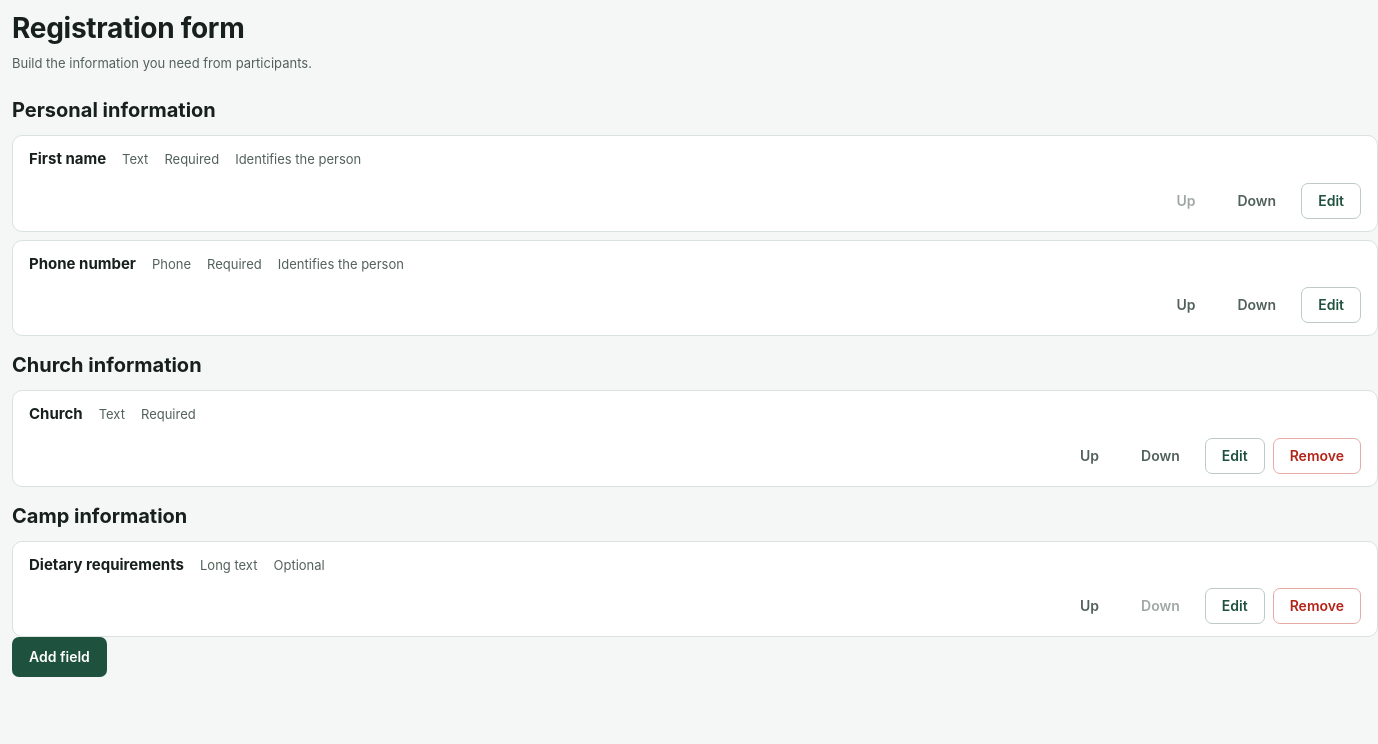
Test case: registration form builder › removes a question only after a second, explicit confirmation
Click the button named "Remove Dietary requirements": (1317, 606) x1=1273 y1=588 x2=1361 y2=624
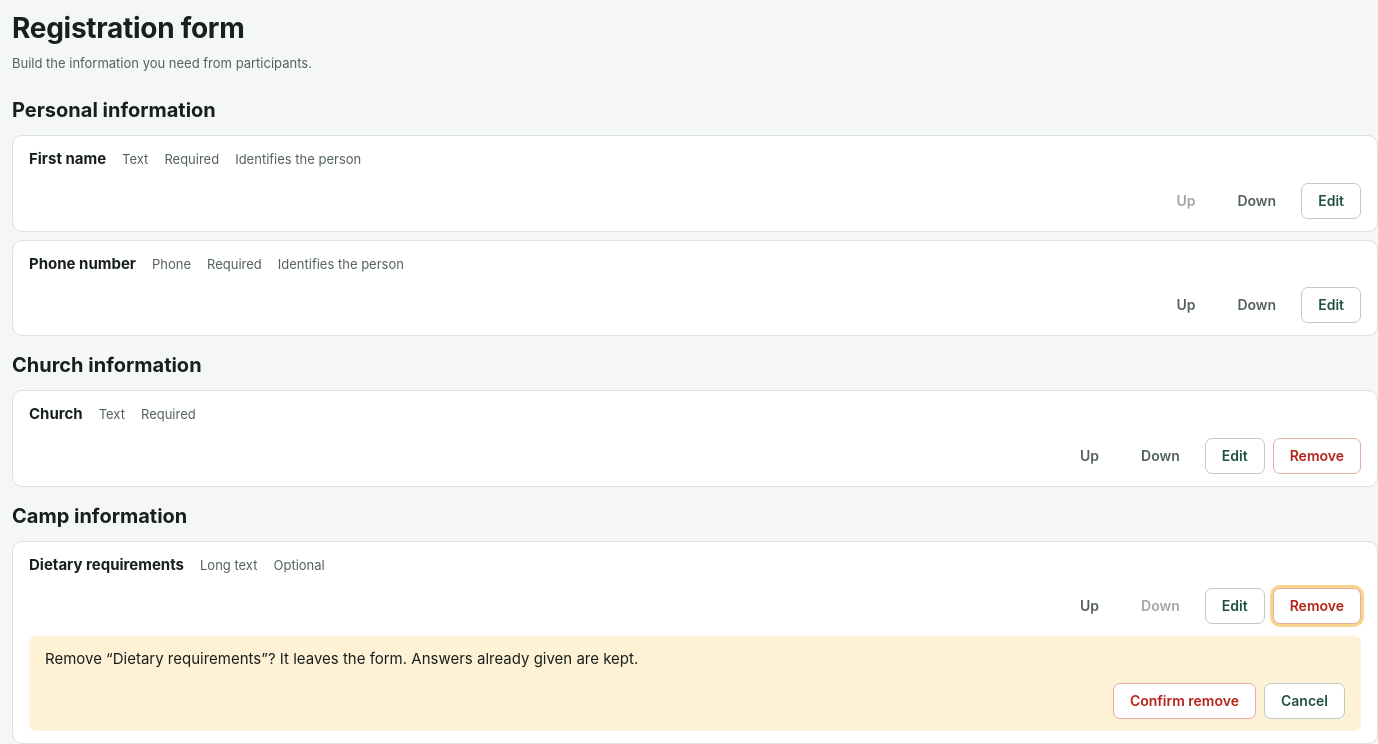
Check: the text "Answers already given are kept" is shown, box x1=261 y1=649 x2=638 y2=668
Click the button "Confirm remove": (1184, 701) x1=1113 y1=683 x2=1256 y2=719
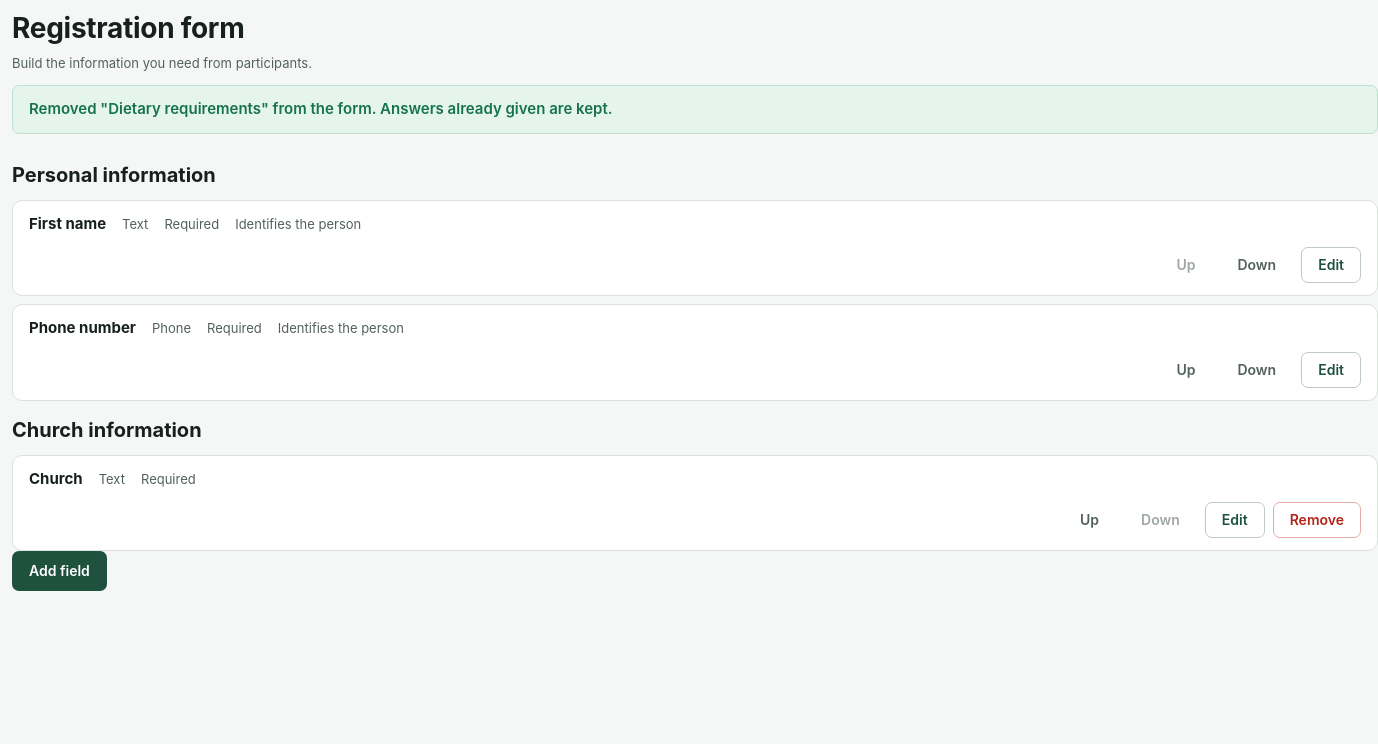
Check: the text "Removed \"Dietary requirements\" from the form. Answers already given are kept." is shown, box x1=12 y1=85 x2=1377 y2=134
